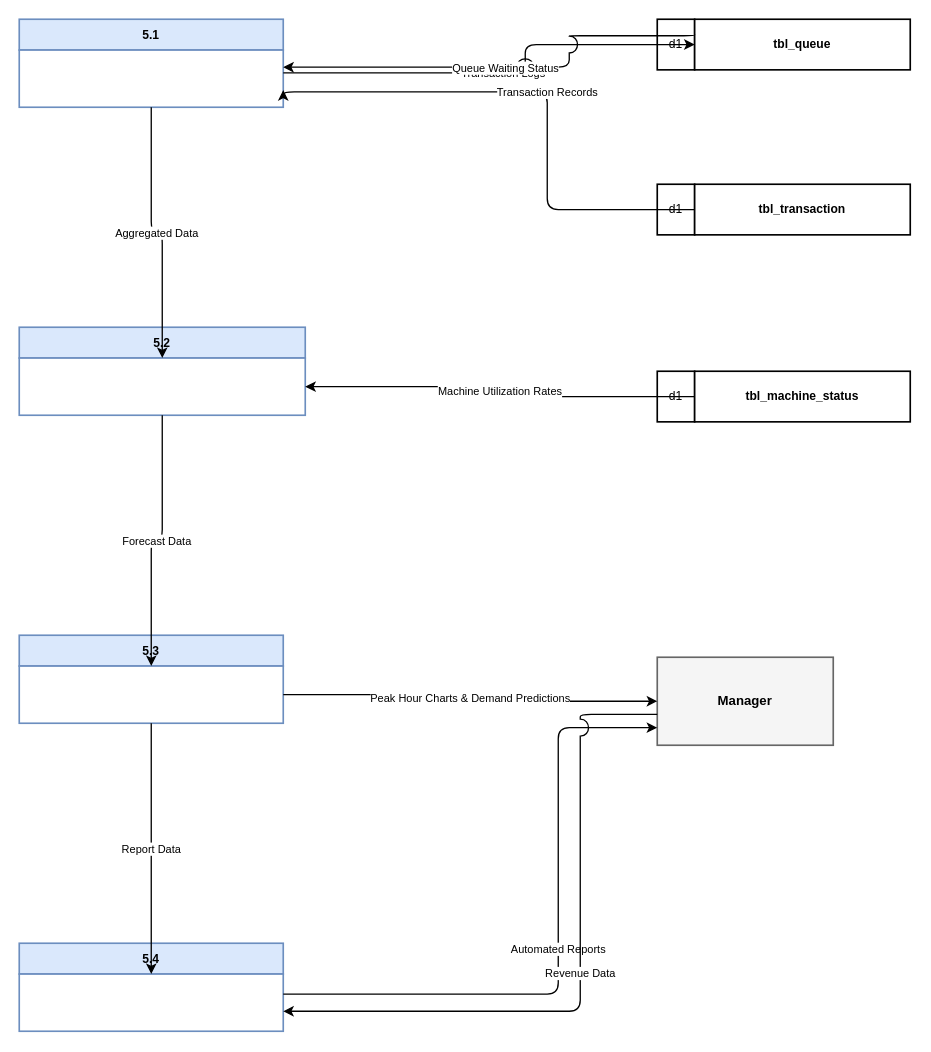
The diagram is 931 pixels wide and 1052 high, and some of its shapes have lost their labels. Each missing label, with the centre of its shape:
Data Retrieval: [151,78]
Predictive Analytics Engine: [162,386]
Report Generator: [151,1002]
Visualization Module: [151,694]
